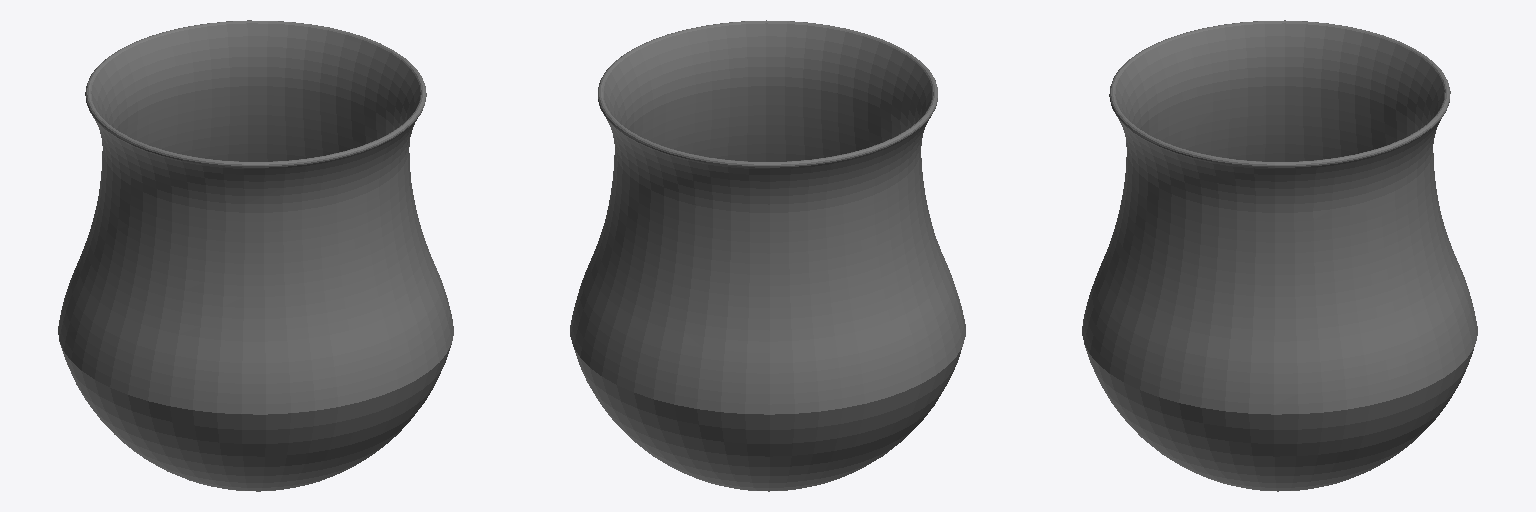
The robot description file, URDF, robot "object":
<?xml version="1.0"?>
<robot name="object">
  <link name="object">
    <visual>
      <origin xyz="0 0 0"/>
      <geometry>
        <mesh
          filename="../../mesh/oakink_virtual/cylinder_bottle_s605.stl" />
      </geometry>
      <material name="mat">
        <color rgba="0.5 0.5 0.5 1"/>
      </material>
    </visual>

    <collision>
      <origin xyz="0 0 0"/>
      <geometry>
        <mesh
          filename="../../mesh/oakink_virtual/cylinder_bottle_s605.stl" />
      </geometry>
    </collision>
  </link>
</robot>

--- What the picture shows (computed from the rendered views, not written in the file) ---
Views: 3 orthographic renders of the robot side by side, from view 1: azimuth 30°, elevation 25°; view 2: azimuth 150°, elevation 25°; view 3: azimuth 270°, elevation 25°.
Model object with 1 links and 0 joints (none), rooted at object, posed every joint at zero.
Visible links, largest first — view 1: object; view 2: object; view 3: object.
Link boxes in pixels (x1,y1,x2,y2): object: (58,20,453,491); object: (570,20,965,491); object: (1082,20,1477,491).
Size in the robot's own frame: 0.1655 by 0.1655 by 0.1748 metres.
Meshes: 1 distinct files referenced, 1 mesh visuals loaded (1 binary STL).